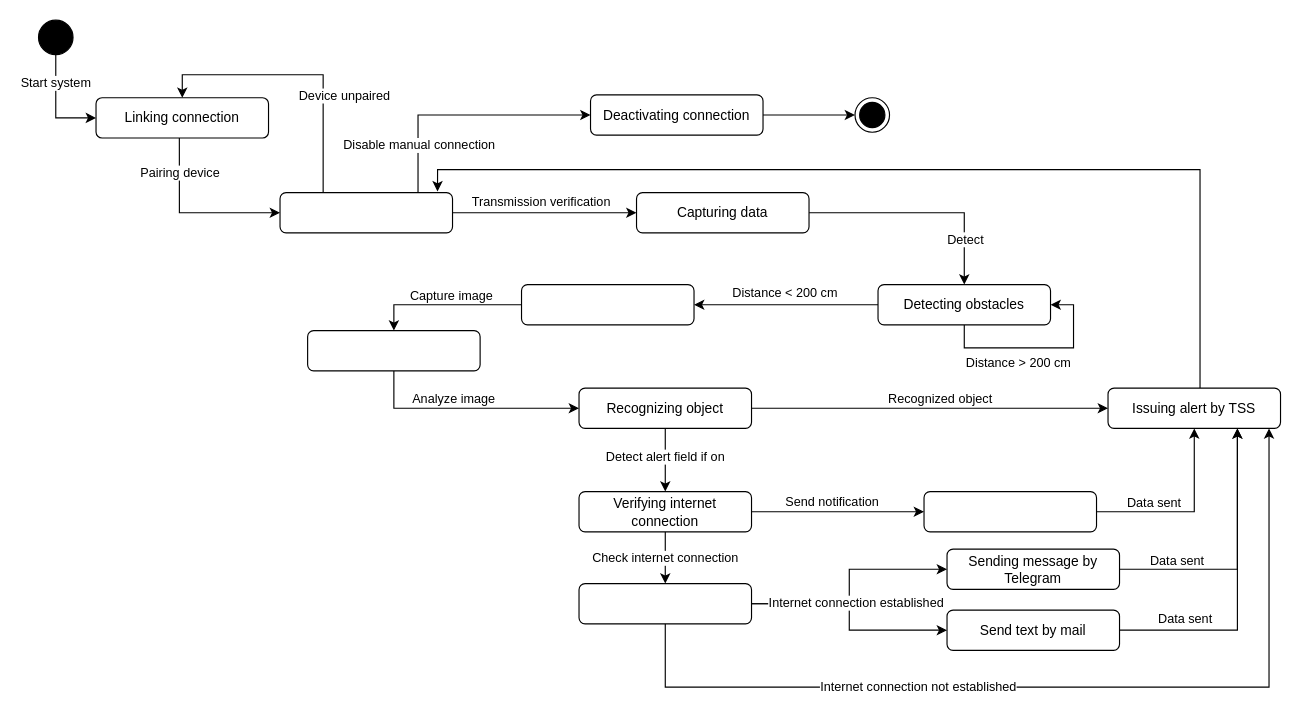
Some shapes in this 1301 by 716 pixel diagram are drawn without their labels. Here are the shapes that lost their labels. From the top down, the centre of each, then its label:
the point at 366,212: Connected device
the point at 607,304: Obstacle detected
the point at 393,350: Capturing Image
the point at 1010,511: Sending text message
the point at 665,603: Sending notification
